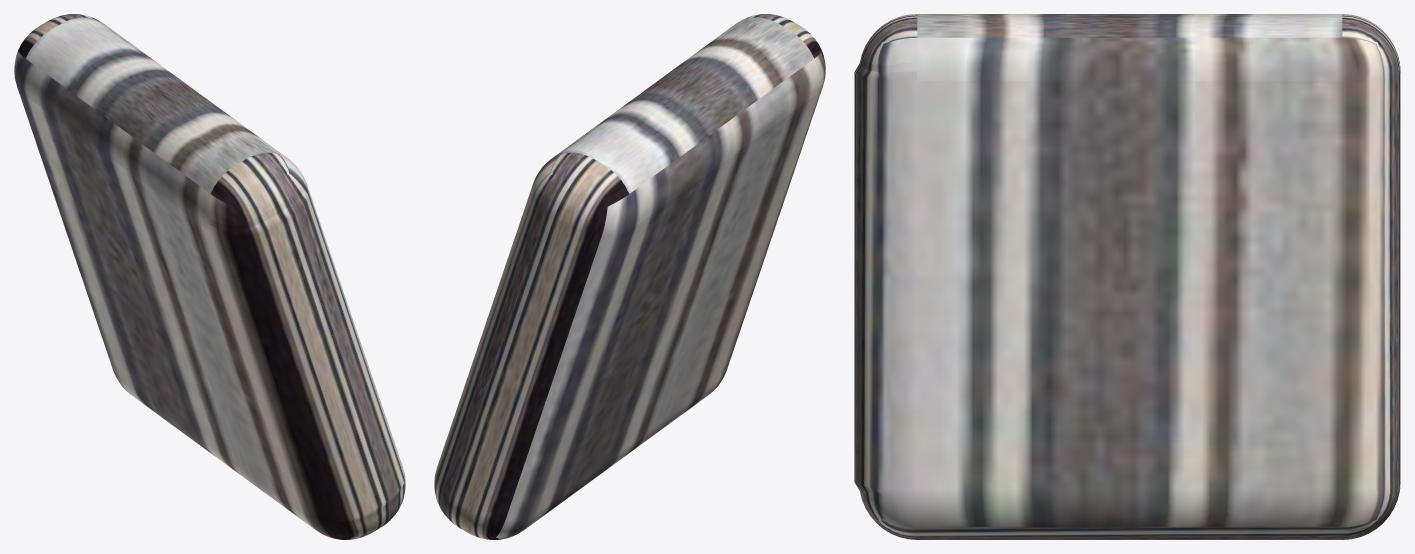
File: cojinRespaldo2.obj
The picture shows the model from 3 angles, left to right: view 1: azimuth 30°, elevation 25°; view 2: azimuth 150°, elevation 25°; view 3: azimuth 270°, elevation 25°; orthographic projection. The views are drawn at different scales.
Parts seen in each view (by area): view 1: cojinRespaldo:polySurface18; view 2: cojinRespaldo:polySurface18; view 3: cojinRespaldo:polySurface18.
Boxes of the visible parts, left/top/right/bottom form: cojinRespaldo:polySurface18: left=14, top=14, right=405, bottom=539; cojinRespaldo:polySurface18: left=434, top=14, right=825, bottom=539; cojinRespaldo:polySurface18: left=854, top=14, right=1400, bottom=539.
Size of the model in its own units: 1.08 by 2.16 by 2.31.
